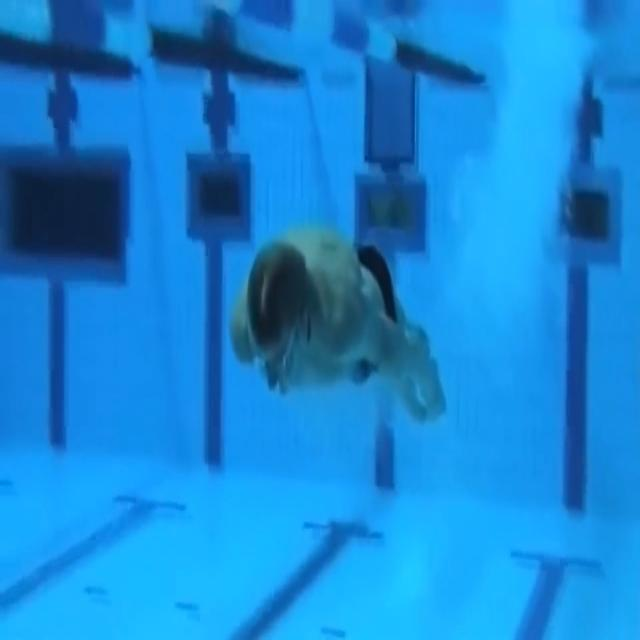Swimming: (231, 229, 446, 425)
